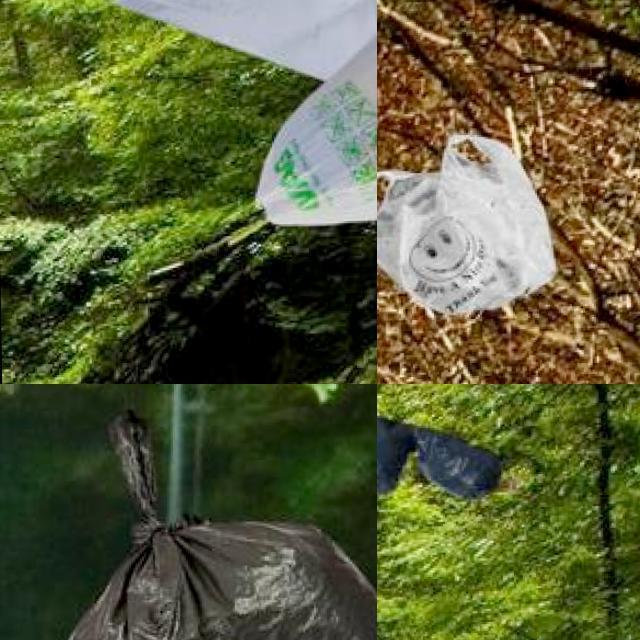waste: (50, 407, 377, 640), (377, 130, 564, 315), (251, 23, 377, 227), (124, 0, 377, 79), (412, 430, 506, 500), (377, 410, 419, 499)
